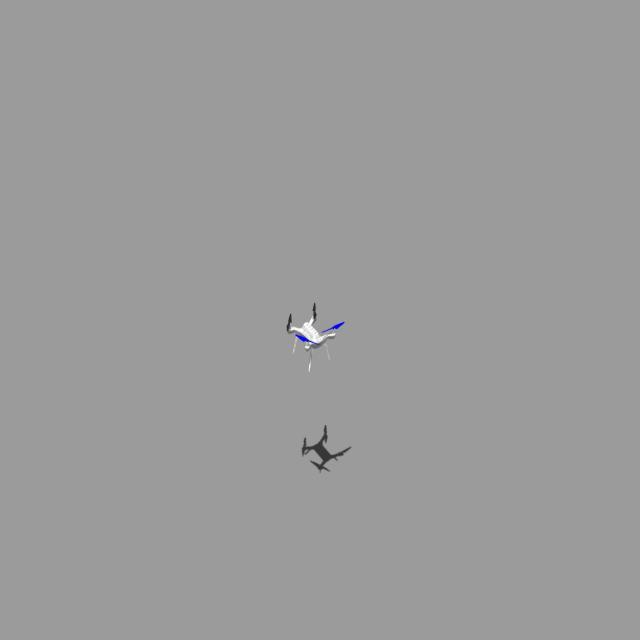Drone: (280, 293, 348, 375)
